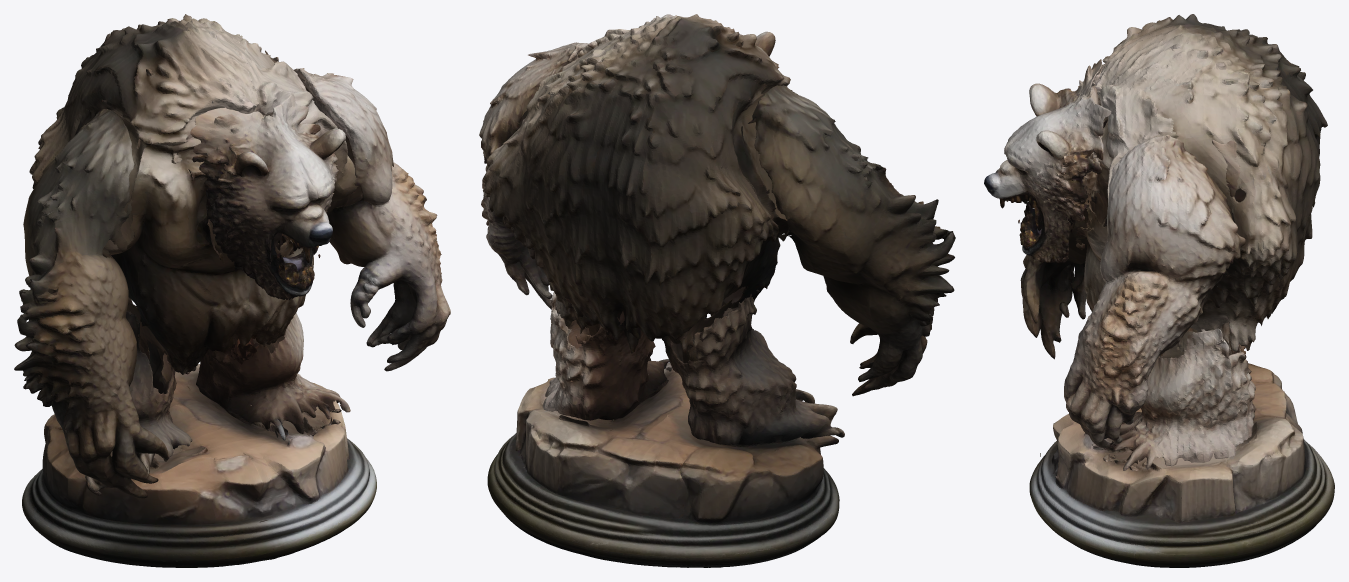
3 views of the same model, side by side, from view 1: azimuth 30°, elevation 25°; view 2: azimuth 150°, elevation 25°; view 3: azimuth 270°, elevation 25° (orthographic). The views are drawn at different scales.
Parts seen in each view (by area): view 1: 1, 0, 3, 2, 4, 6, 5; view 2: 1, 0, 3, 5, 6, 4; view 3: 1, 0, 4, 2, 6, 3.
Boxes of the visible parts, x1=… form: 1: x1=29, y1=14, x2=358, y2=383; 0: x1=22, y1=364, x2=376, y2=567; 3: x1=14, y1=109, x2=168, y2=498; 2: x1=190, y1=93, x2=345, y2=299; 4: x1=265, y1=50, x2=450, y2=371; 6: x1=196, y1=313, x2=350, y2=440; 5: x1=85, y1=306, x2=192, y2=492; 1: x1=482, y1=14, x2=797, y2=363; 0: x1=487, y1=363, x2=839, y2=567; 3: x1=741, y1=85, x2=955, y2=396; 5: x1=662, y1=289, x2=844, y2=444; 6: x1=542, y1=292, x2=670, y2=420; 4: x1=479, y1=42, x2=588, y2=309; 1: x1=1075, y1=14, x2=1327, y2=358; 0: x1=1029, y1=363, x2=1334, y2=567; 4: x1=1064, y1=134, x2=1245, y2=447; 2: x1=984, y1=59, x2=1111, y2=262; 6: x1=1104, y1=327, x2=1255, y2=470; 3: x1=1020, y1=220, x2=1088, y2=359.
Size of the model in its own units: 0.9442 by 0.973 by 0.6655.
Materials: 7 (7 with a texture image).
